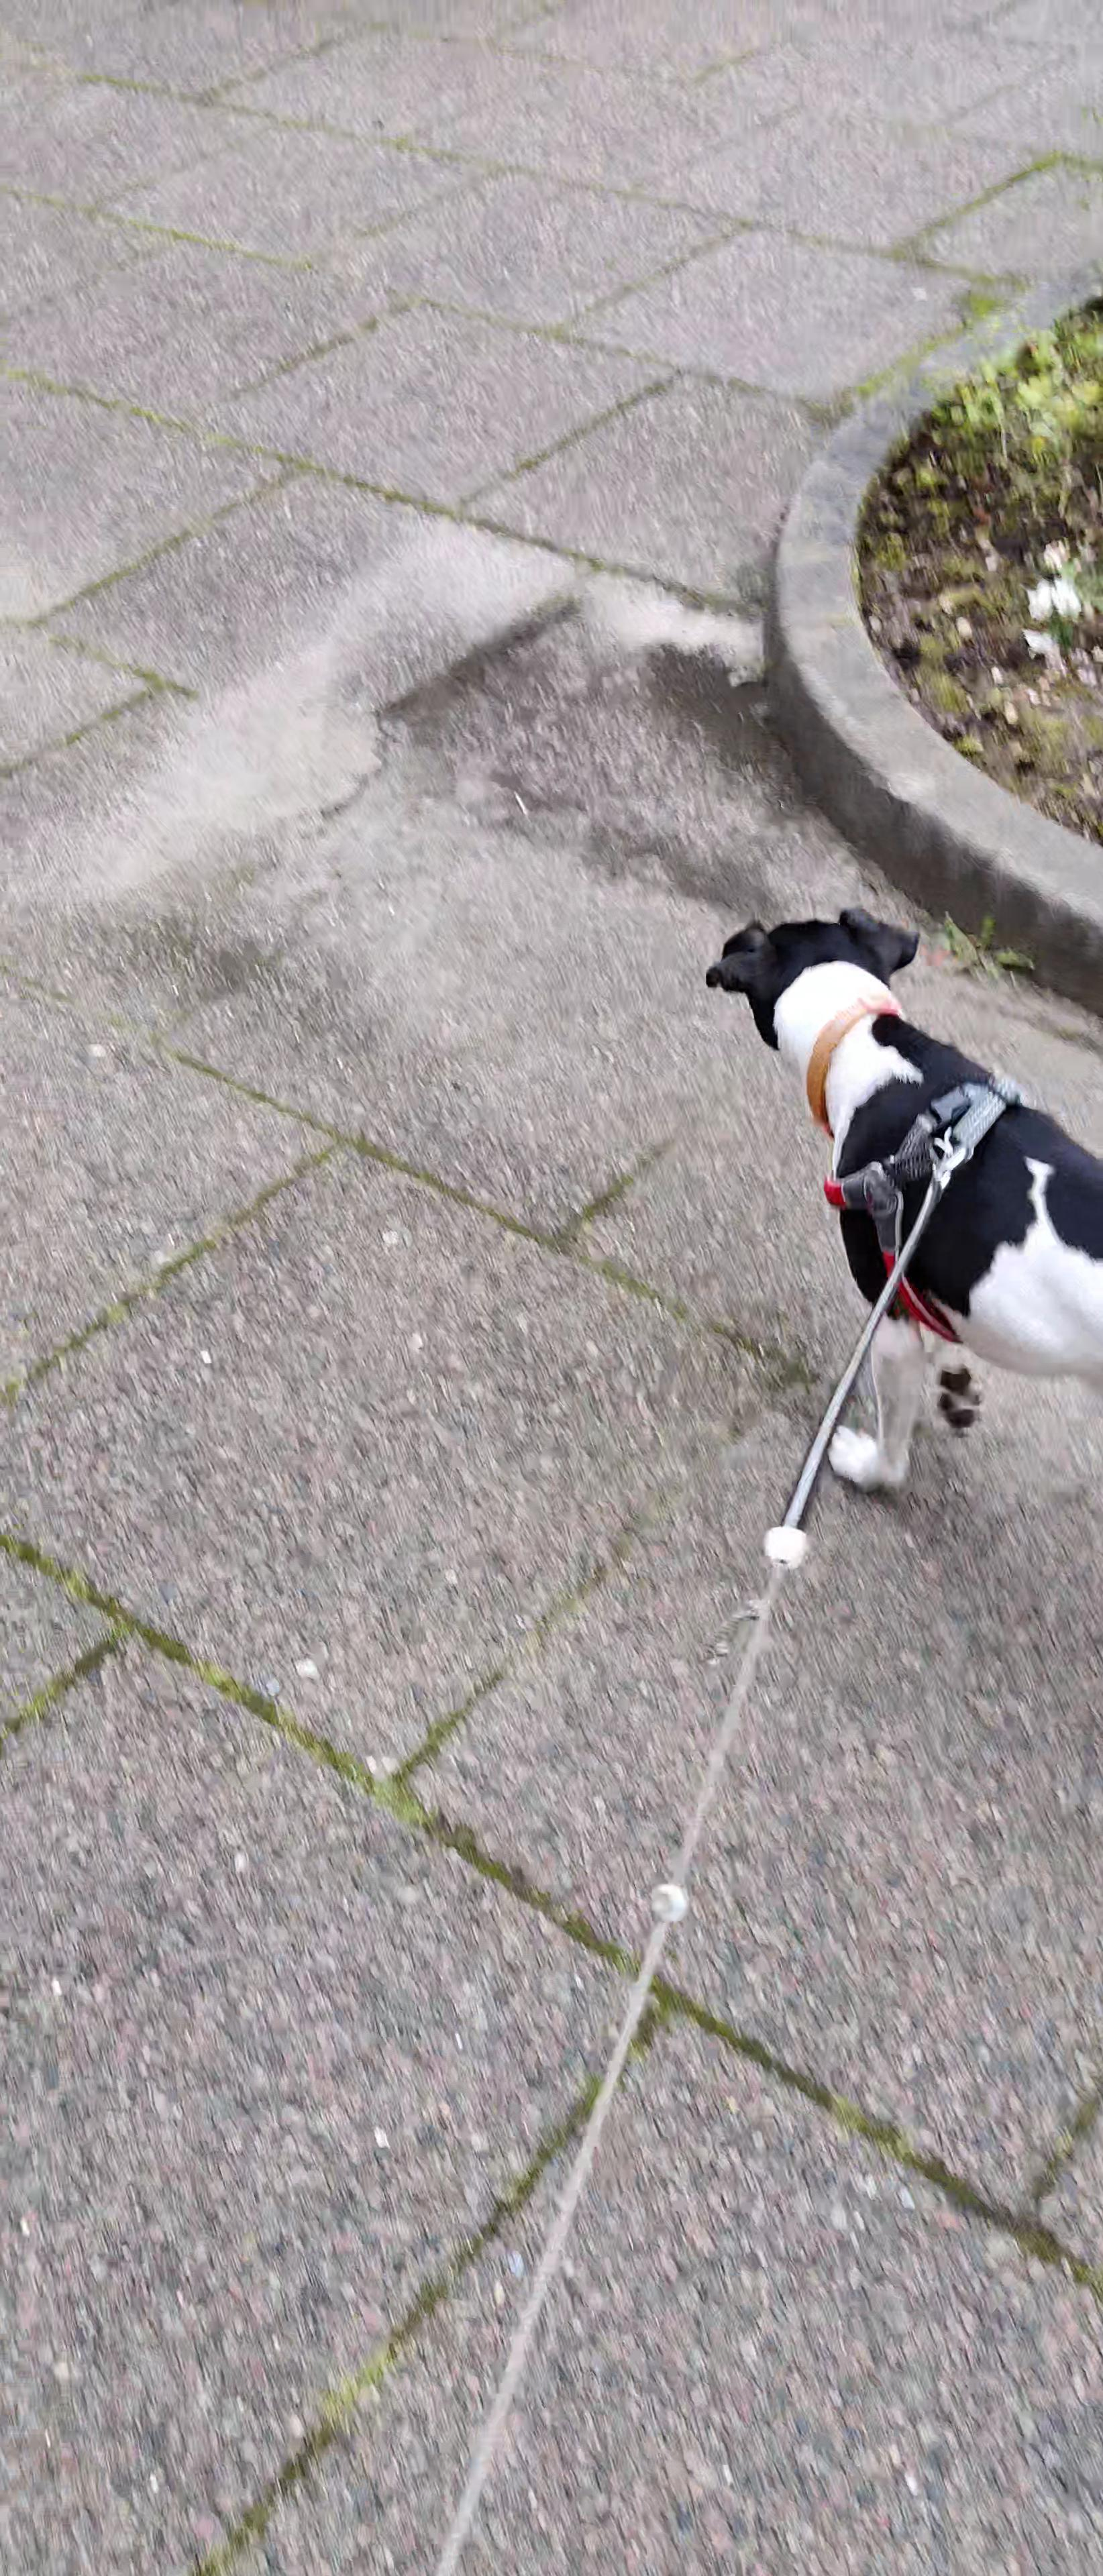Dog: (692, 894, 1103, 1508)
